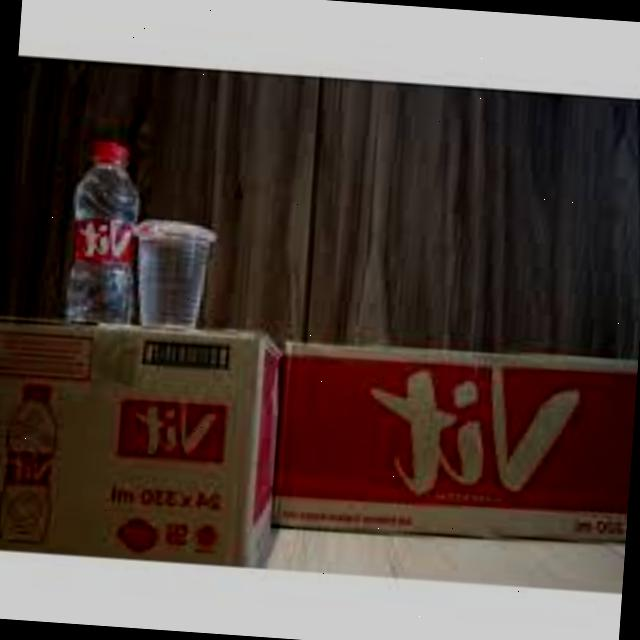trash: (57, 138, 144, 327)
